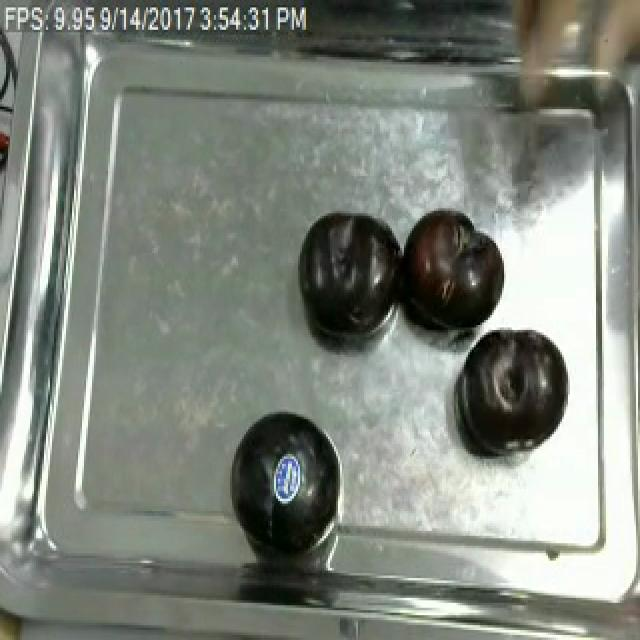Fruit: (218, 397, 354, 561), (452, 322, 570, 462), (292, 203, 406, 340), (392, 204, 508, 338)
